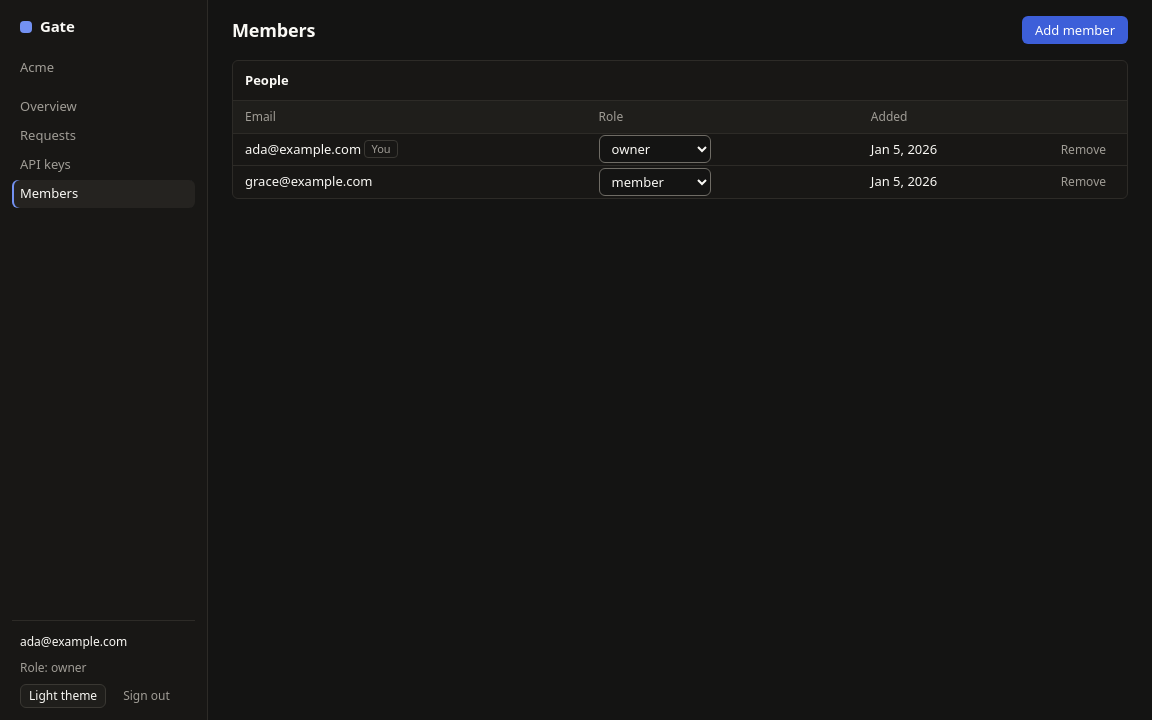
it: members: change role and remove › reports a refused role change
Step 1. Select "member" in the dropdown named "Role for ada@example.com" → (655, 149), box [599,135,711,163]
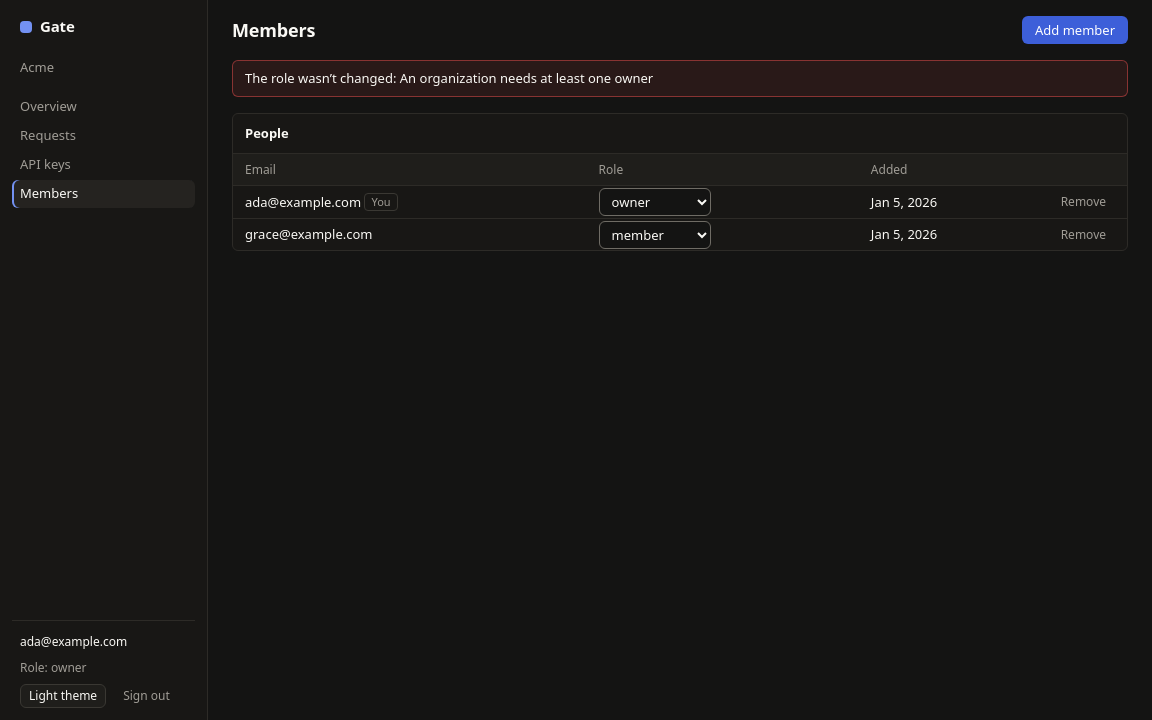
Check: the message reads "The role wasn’t changed: An organization needs at least one owner", box [232,60,1128,97]
